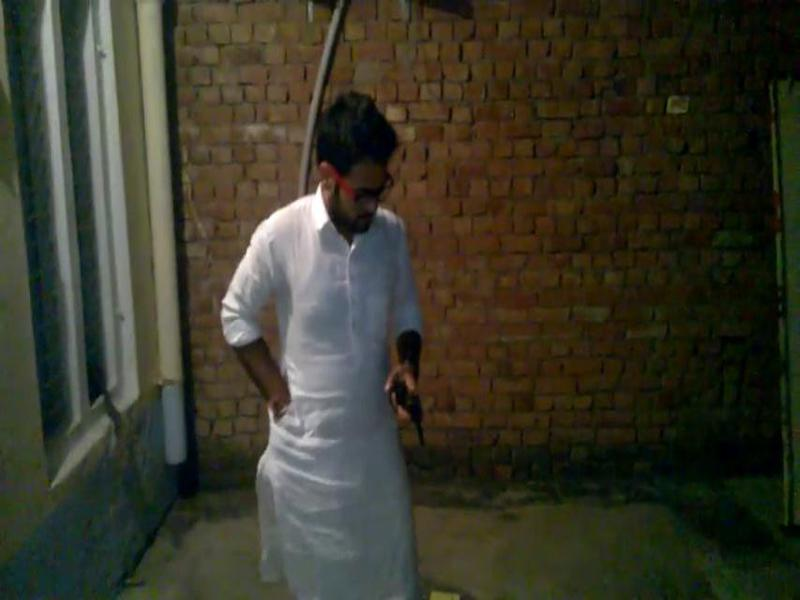Revolver: (363, 373, 443, 454)
